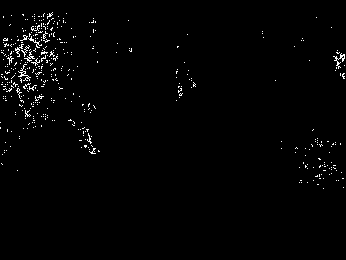person: (69, 101, 101, 155), (174, 60, 197, 100)
